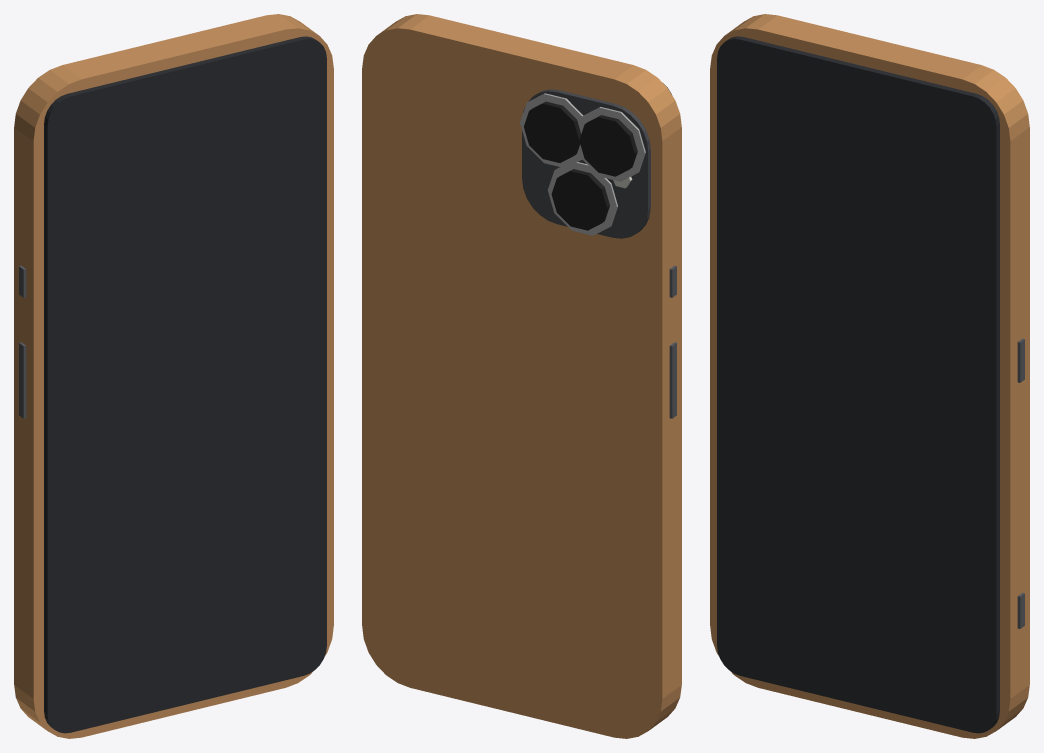
Rendered from 02_apple_iphone_17_pro_max.glb.
3 renders of one model, left to right at view 1: azimuth 30°, elevation 25°; view 2: azimuth 150°, elevation 25°; view 3: azimuth 330°, elevation 25°, orthographic.
Parts seen in each view (by area): view 1: geometry_1, geometry_0, geometry_4; view 2: geometry_0, geometry_7, geometry_12, geometry_8, geometry_10, geometry_13, geometry_9, geometry_11, geometry_4; view 3: geometry_1, geometry_0.
Boxes of the visible parts, bbox=[...] form: geometry_1: bbox=[44, 36, 326, 733]; geometry_0: bbox=[14, 14, 333, 738]; geometry_4: bbox=[19, 342, 26, 418]; geometry_0: bbox=[362, 14, 681, 738]; geometry_7: bbox=[522, 89, 650, 238]; geometry_12: bbox=[551, 169, 609, 230]; geometry_8: bbox=[579, 115, 637, 176]; geometry_10: bbox=[524, 101, 581, 162]; geometry_13: bbox=[547, 161, 617, 235]; geometry_9: bbox=[579, 107, 645, 181]; geometry_11: bbox=[520, 93, 584, 167]; geometry_4: bbox=[669, 342, 676, 418]; geometry_1: bbox=[717, 36, 999, 733]; geometry_0: bbox=[710, 14, 1029, 738].
Size of the model in its own units: 0.2532 by 0.5244 by 0.0453.
